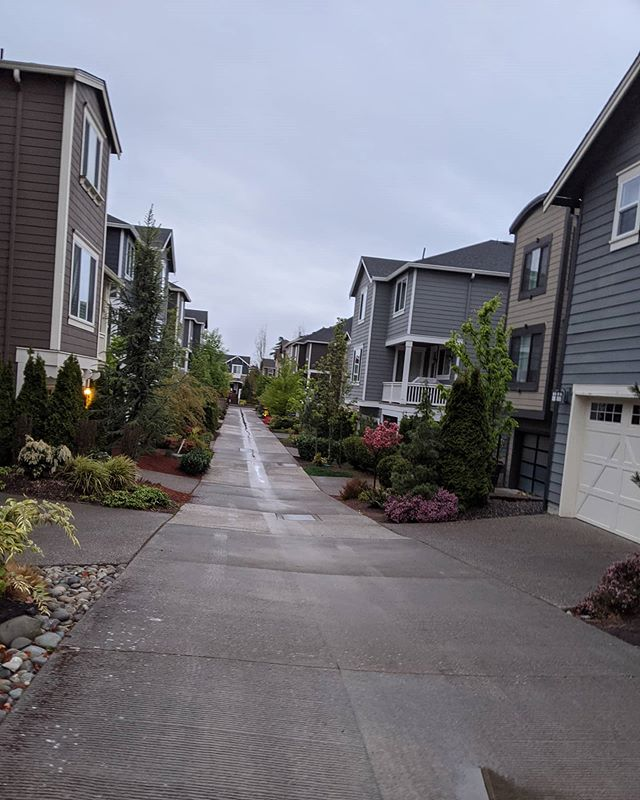building: (456, 63, 640, 531), (335, 247, 515, 472), (1, 56, 109, 381), (96, 219, 183, 391)
sky: (99, 5, 596, 261)
street: (67, 428, 557, 787)
tree: (438, 296, 524, 512), (111, 230, 173, 405)
